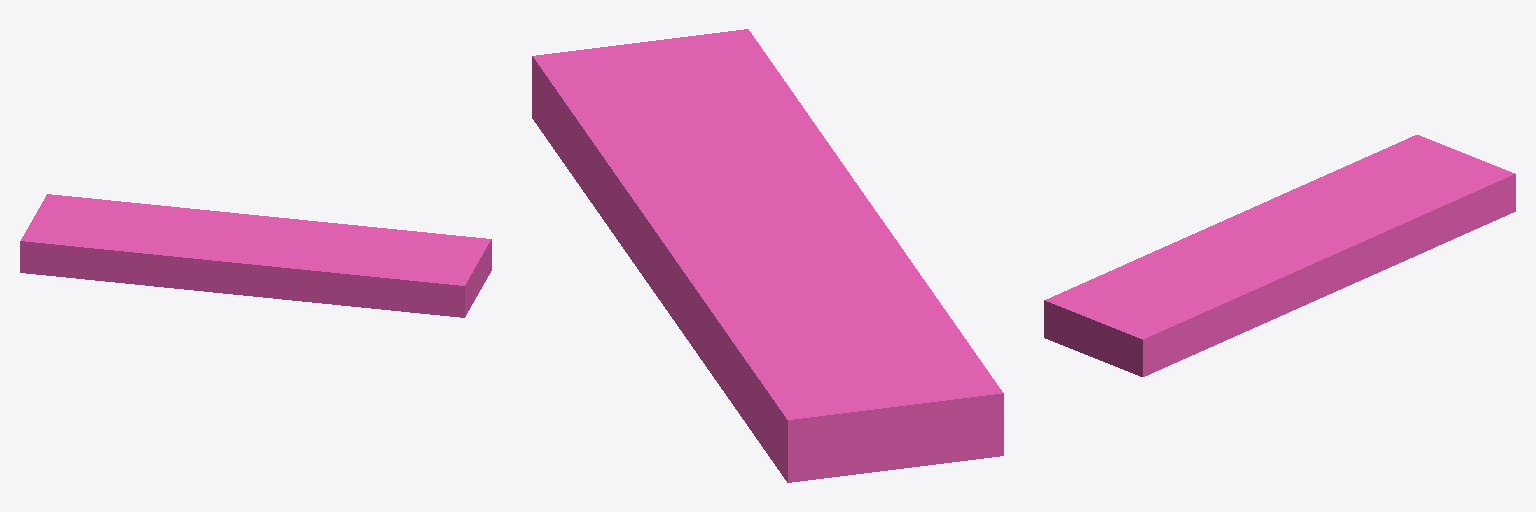
robot.urdf — Interference:
<?xml version="1.0"?>
<robot name="Interference">
  <link name="baseLink">
    <inertial>
      <origin xyz="0.0 0.0 0.0" rpy="0.0 0.0 0.0"/>
      <inertia ixx="0.0" ixy="0.0" ixz="0.0" iyy="0.0" iyz="0.0" izz="0.0"/>
      <mass value="0"/>
    </inertial>
    <visual>
      <origin xyz="0.0 0.0 0.0" rpy="0.0 0.0 0.8114387743753202"/>
      <geometry>
        <box size="0.03251633538639307 0.12983145125104467 0.01"/>
      </geometry>
      <material name="color">
        <color rgba="0.9816059140377074 0.4283539977095092 0.7772688538215101 1.0"/>
      </material>
    </visual>
  </link>
</robot>

--- Facts derived from the render (not from the file) ---
Views: 3 orthographic renders of the robot side by side, from view 1: azimuth 30°, elevation 25°; view 2: azimuth 150°, elevation 25°; view 3: azimuth 270°, elevation 25°.
Robot: Interference — 1 links, 0 joints (none); root link baseLink; default pose: every joint at zero.
Links seen in each view (by area): view 1: baseLink; view 2: baseLink; view 3: baseLink.
Boxes of the visible links, x1=… form: baseLink: x1=20, y1=194, x2=491, y2=317; baseLink: x1=532, y1=29, x2=1003, y2=482; baseLink: x1=1044, y1=135, x2=1515, y2=376.
Bounding box of the posed robot: 0.1166 × 0.113 × 0.01 m (x, y, z).
Geometry: primitives only (box / cylinder / sphere), no mesh files.